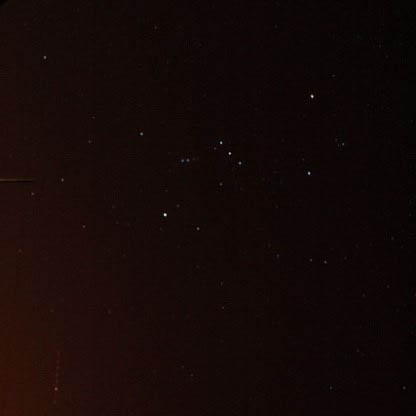Orion: (296, 167, 326, 187), (157, 205, 176, 232), (300, 86, 320, 106), (130, 124, 149, 142), (216, 133, 227, 149), (223, 148, 237, 160), (230, 158, 243, 167)
